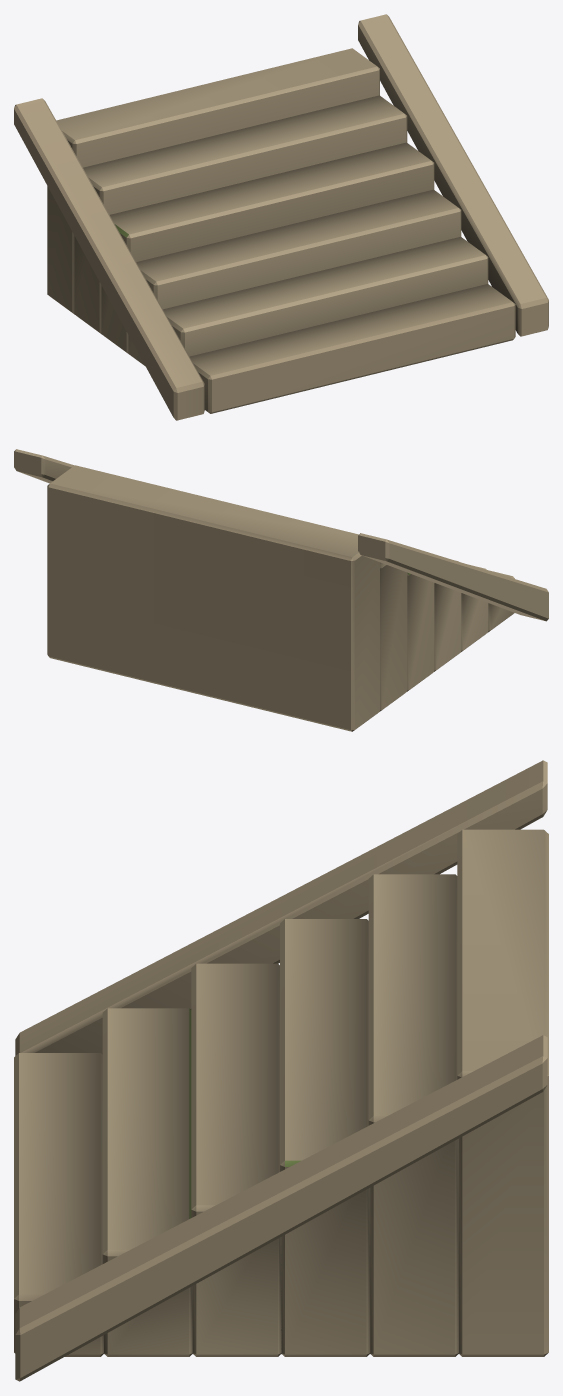
File: Stairs.glb
The picture shows the model from 3 angles, top to bottom: view 1: azimuth 30°, elevation 25°; view 2: azimuth 150°, elevation 25°; view 3: azimuth 270°, elevation 25°; orthographic projection. The views are drawn at different scales.
Parts seen in each view (by area): view 1: Steps; view 2: Steps; view 3: Steps.
Part boxes in pixels (bbox=[...]): Steps: bbox=[14, 14, 548, 420]; Steps: bbox=[14, 449, 548, 731]; Steps: bbox=[14, 760, 548, 1381].
Size of the model in its own units: 14.4 by 7.35 by 10.86.
